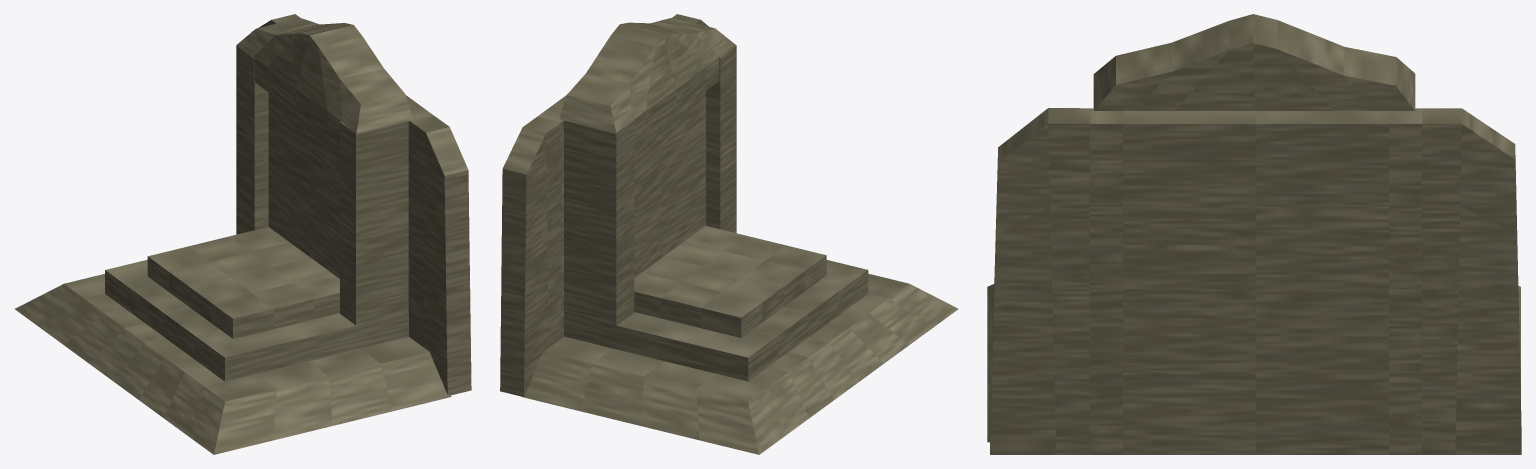
File: Acosta_I_TombstoneExpensive1.fbx
The picture shows the model from 3 angles, left to right: view 1: azimuth 30°, elevation 25°; view 2: azimuth 150°, elevation 25°; view 3: azimuth 270°, elevation 25°; orthographic projection. The views are drawn at different scales.
Visible parts, largest first — view 1: Cube; view 2: Cube; view 3: Cube.
Part boxes in pixels (bbox=[...]): Cube: bbox=[15, 14, 471, 454]; Cube: bbox=[500, 14, 958, 454]; Cube: bbox=[987, 14, 1521, 454].
Size of the model in its own units: 451 by 498 by 603.
Materials: 1 (1 with a texture image).
